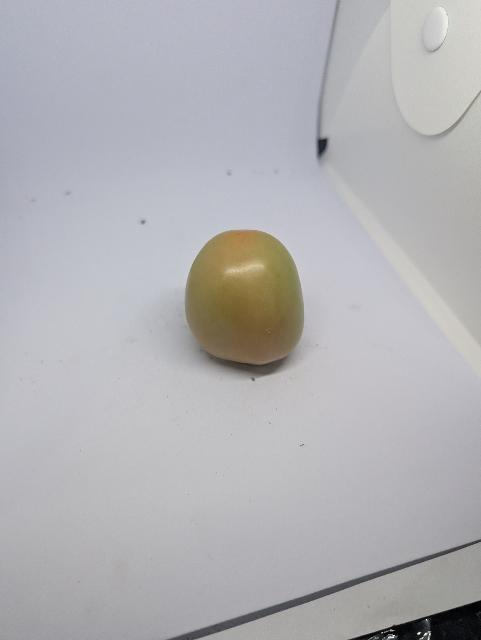breaker: (185, 230, 304, 365)
